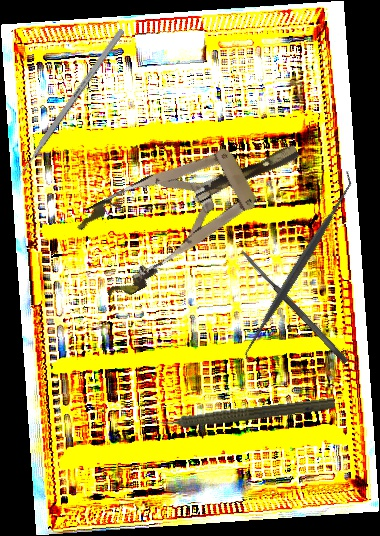Handpiece: (148, 390, 336, 435)
Pusher: (9, 27, 125, 190)
Spatula Surgical: (230, 168, 367, 366), (240, 249, 349, 365)
Speculum: (67, 108, 321, 305)
